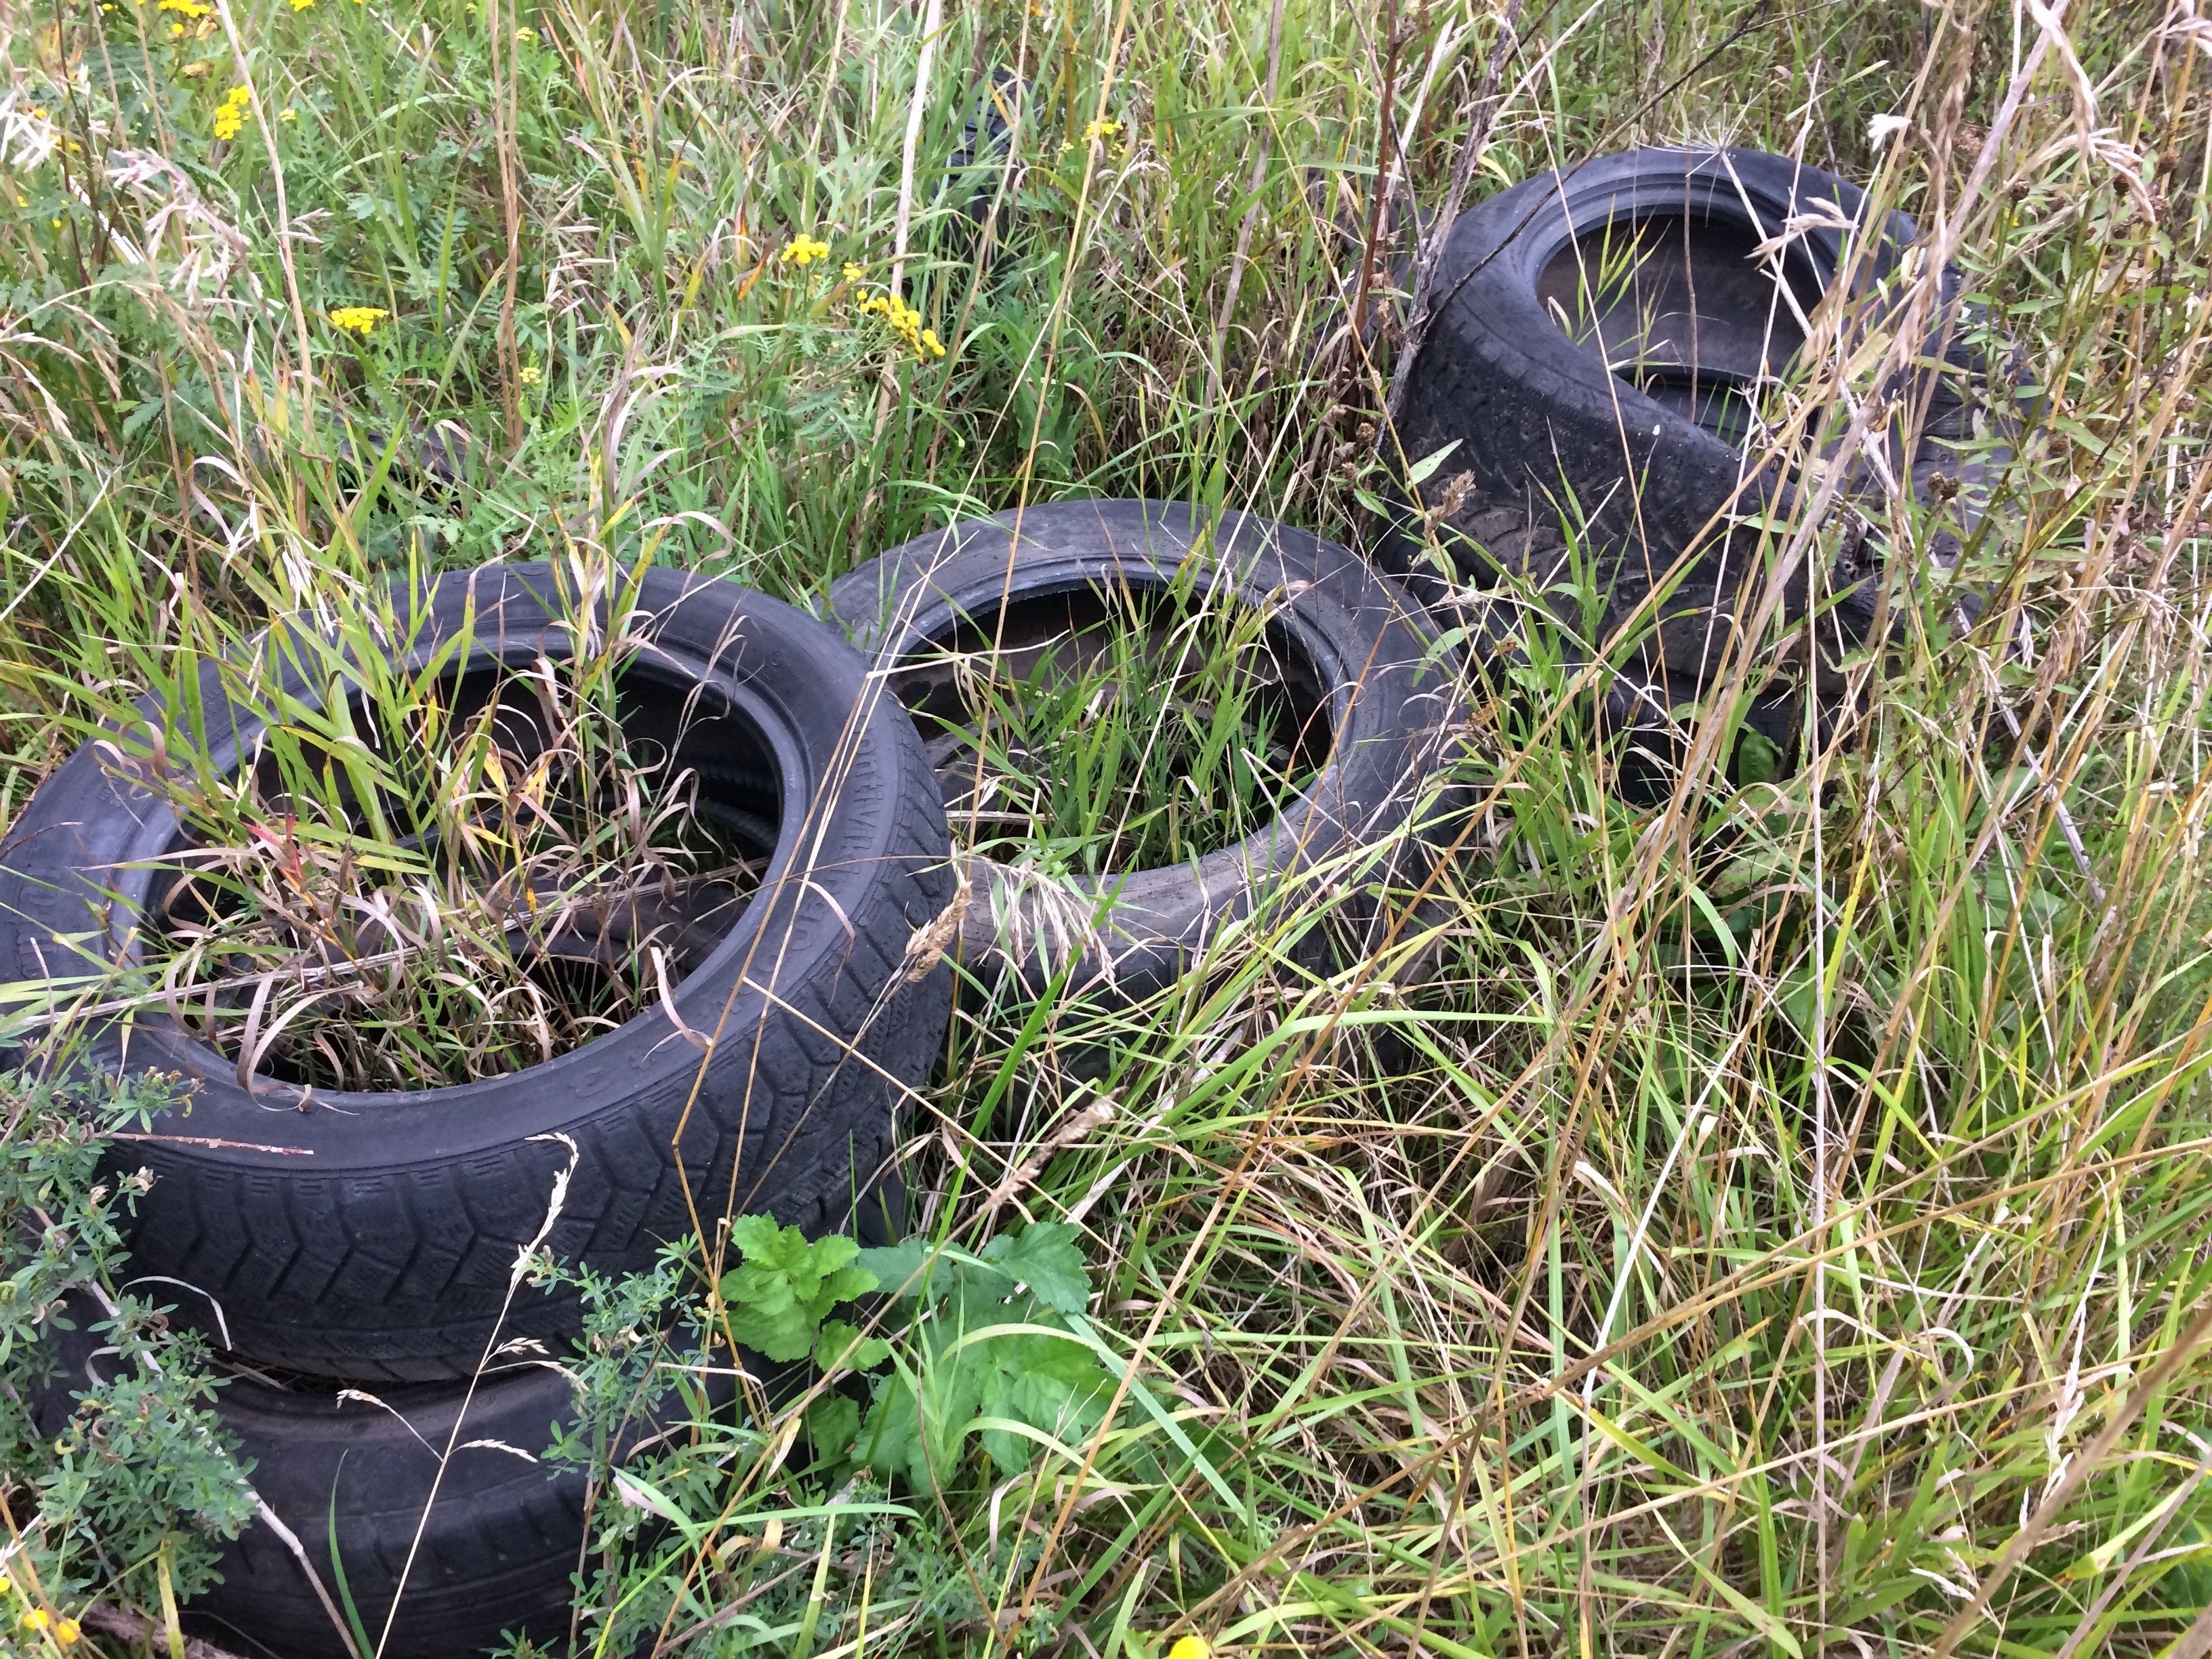trash: (12, 582, 981, 1643), (787, 423, 1615, 1131), (1366, 157, 2090, 802)
